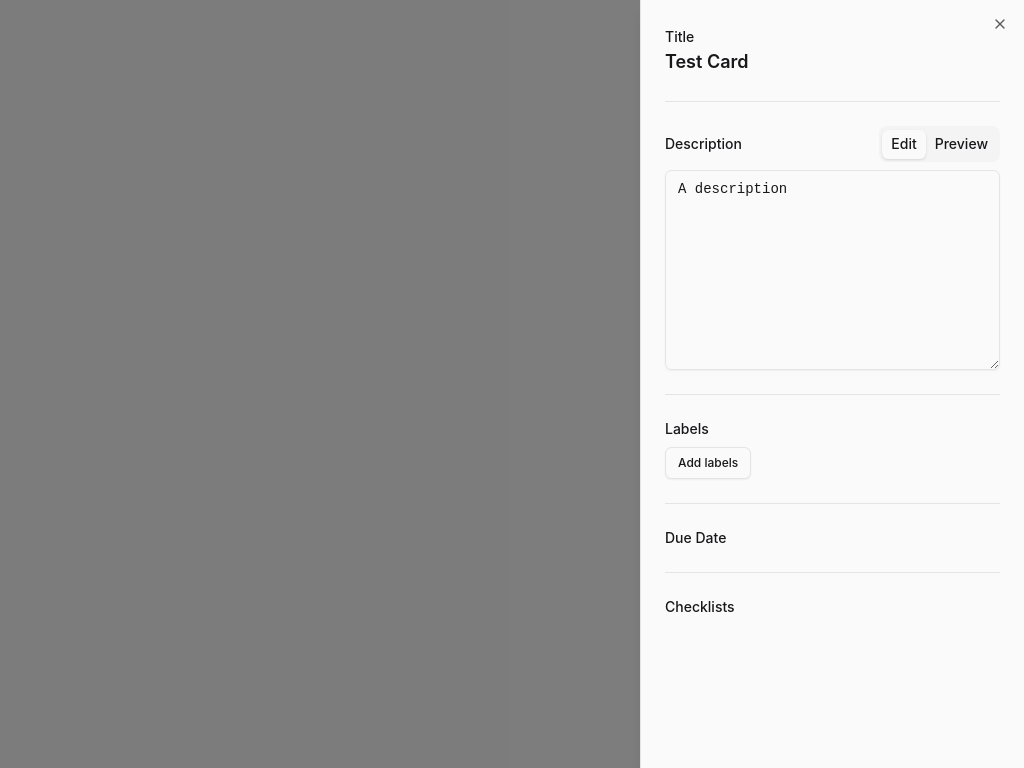
Test: CardDetailPanel › shows saving indicator during title mutation
Type "Updated Title" into the field named "Card title" at (832, 62), box x1=665 y1=48 x2=1000 y2=77
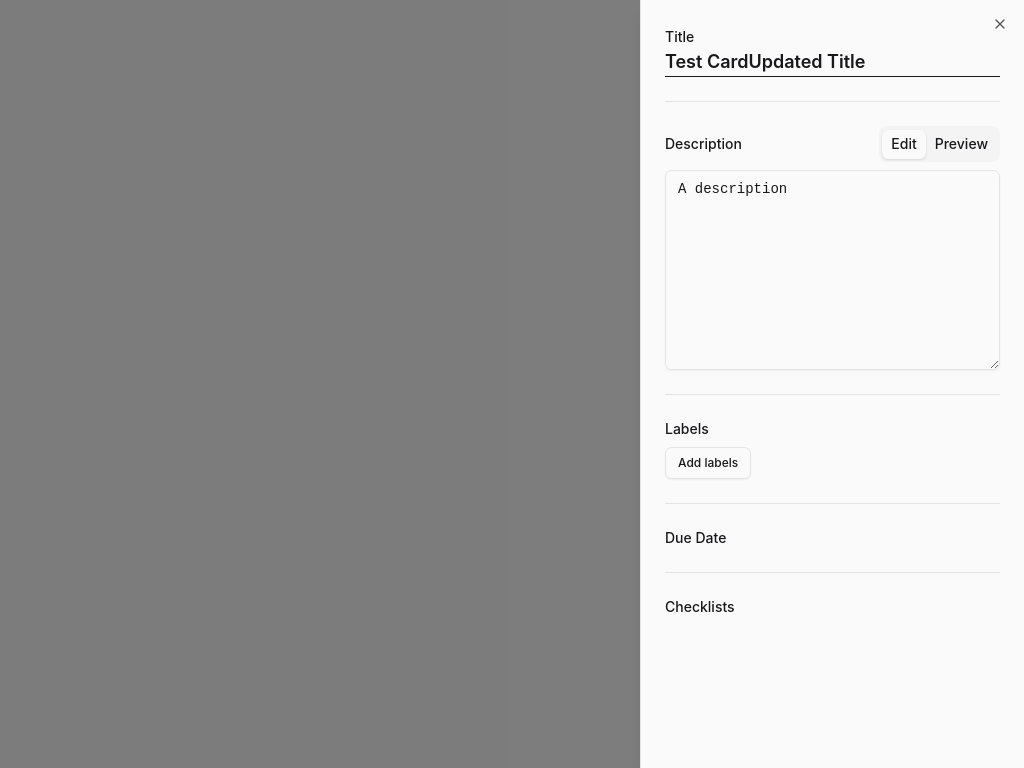
Leave the field named "Card title", box x1=665 y1=48 x2=1000 y2=77
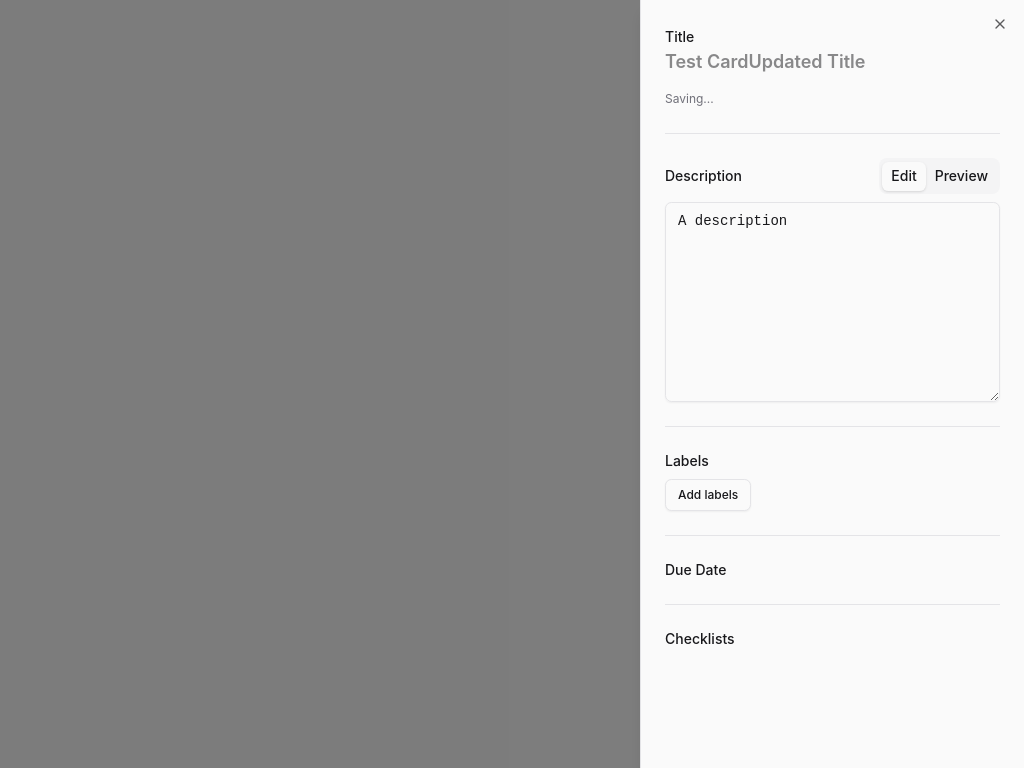
Now the text "Saving..." is shown, box x1=665 y1=91 x2=714 y2=106
